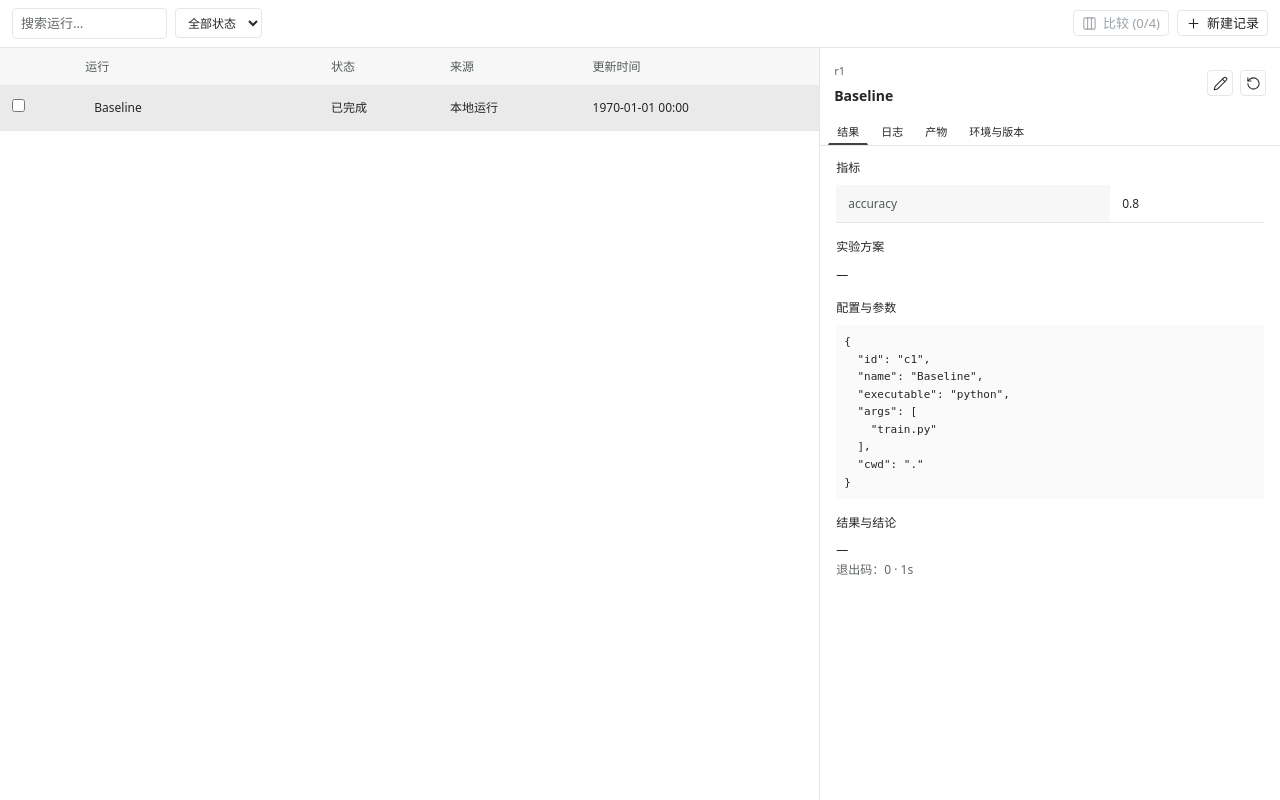
Test case: merges annotations without allowing manual overwrite of actual execution status
This screenshot has width=1280, height=800.
Expected: the table named "实验记录列表" shows "已完成", [331,99,367,116]
Expected: the table named "实验记录列表" shows "本地运行", [450,99,498,116]
Step 1. Click the button named "编辑记录" → (1220, 83), box [1207,70,1233,96]
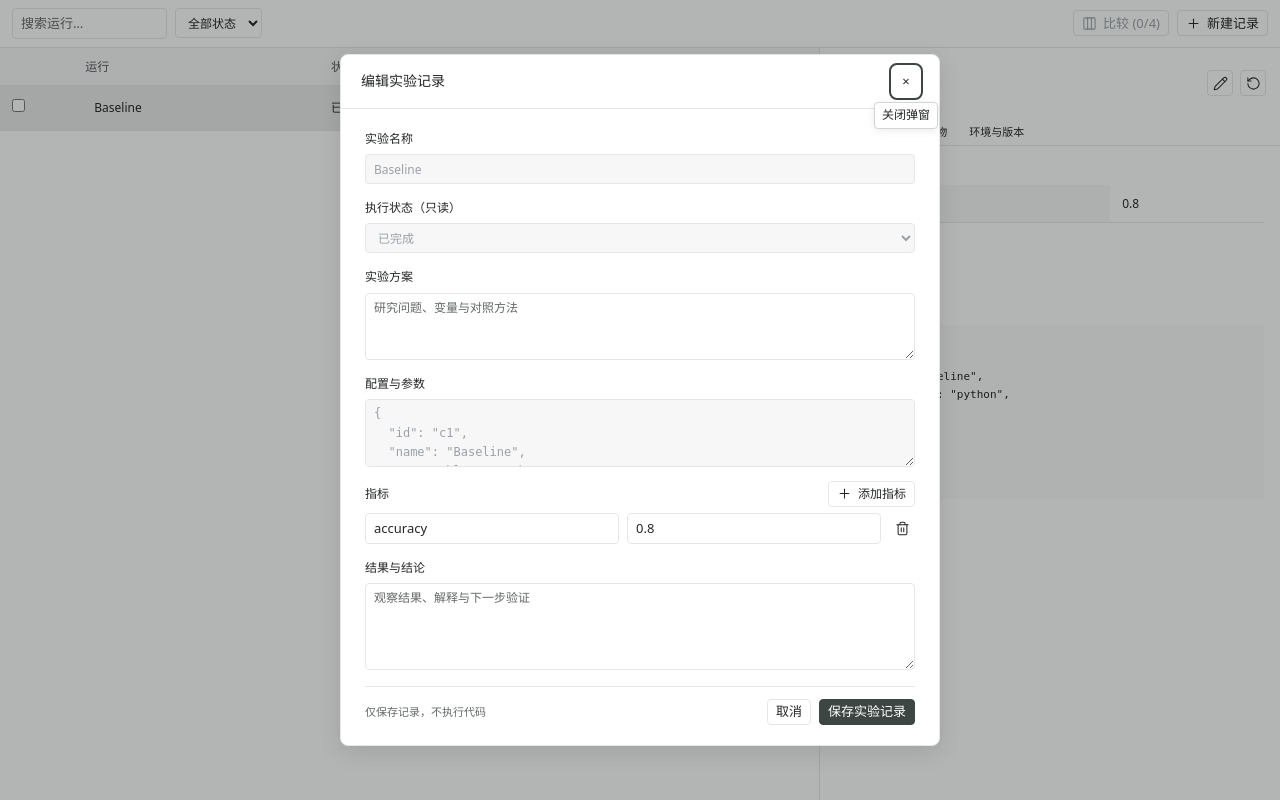
Expected: the dropdown labelled "执行状态（只读）" is disabled, [365,224,915,254]
Expected: the text box labelled "配置与参数" is disabled, [365,399,915,467]
